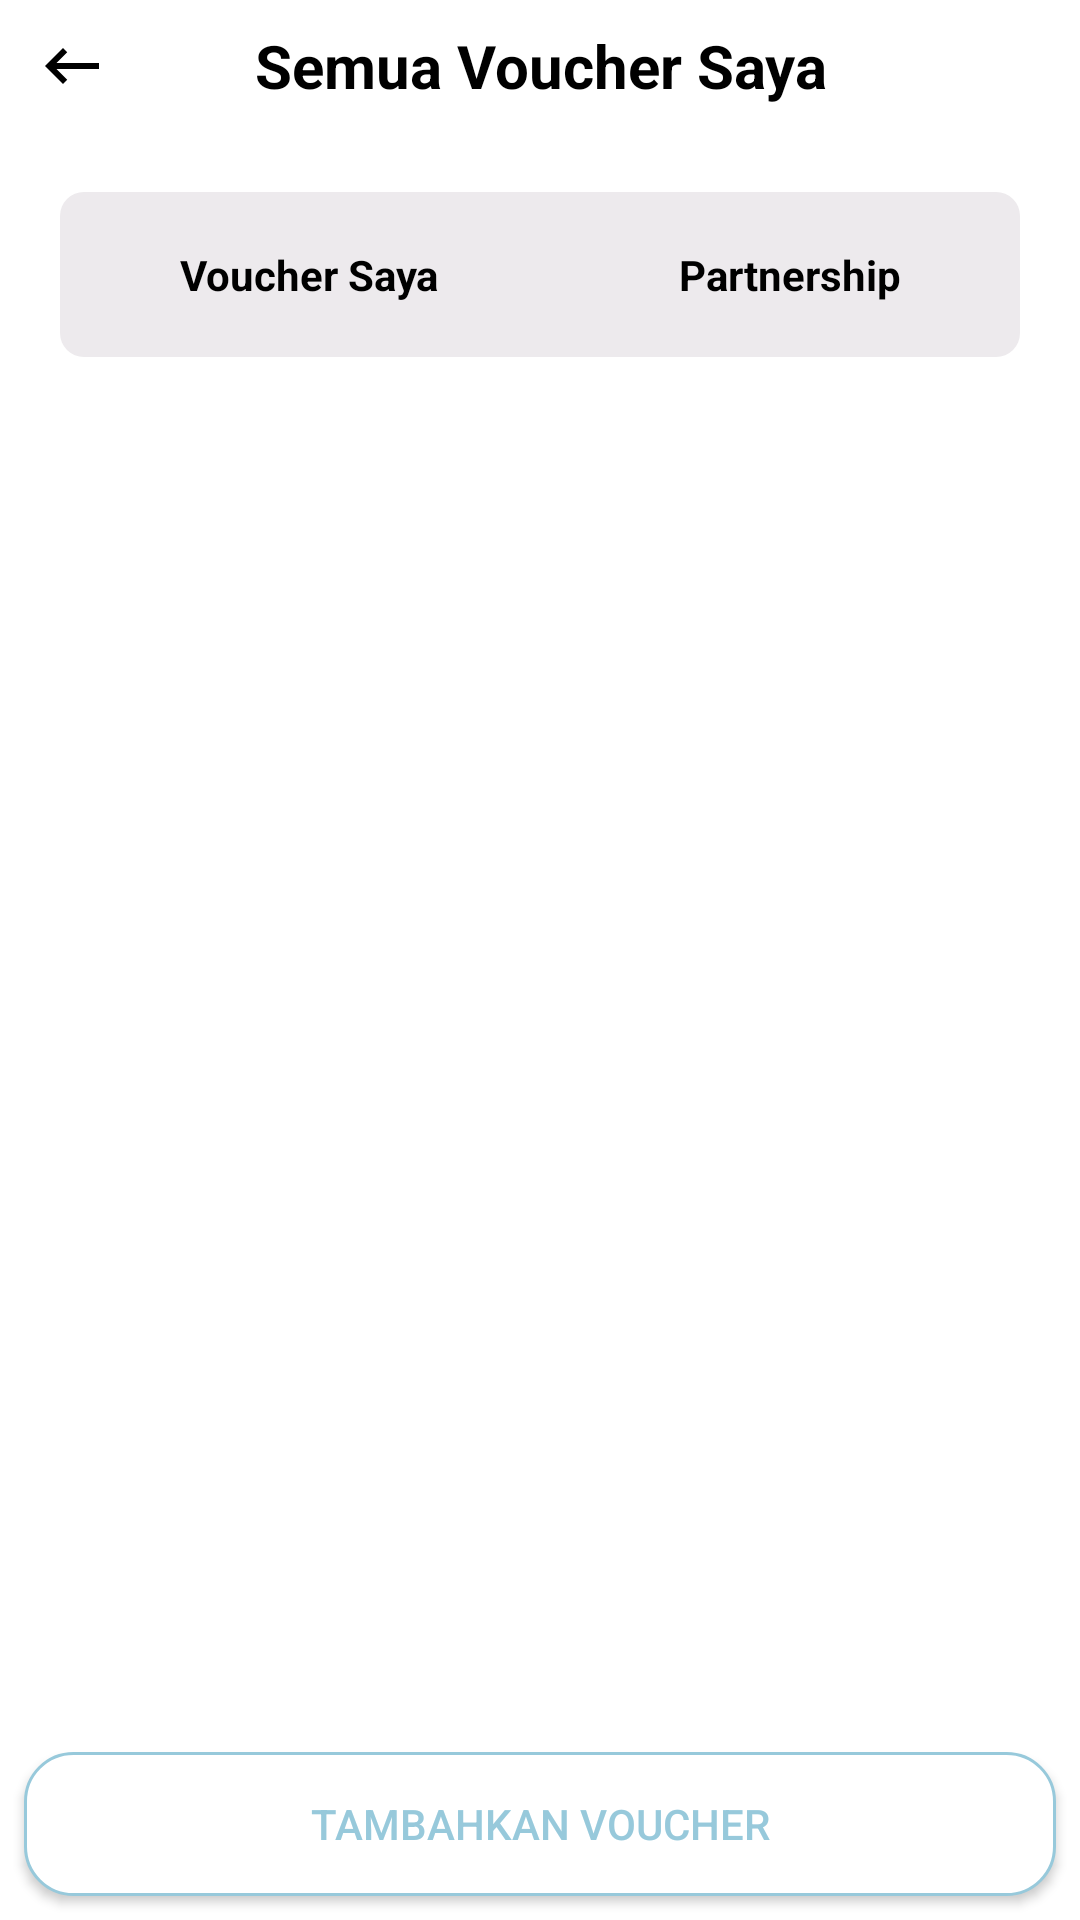

Icon bounding boxes for this 1080 x 1920 phone screenshot, format {"x1": x1, "y1": y1, "x2": x2, "y2": y2}:
back: {"x1": 45, "y1": 48, "x2": 99, "y2": 84}
